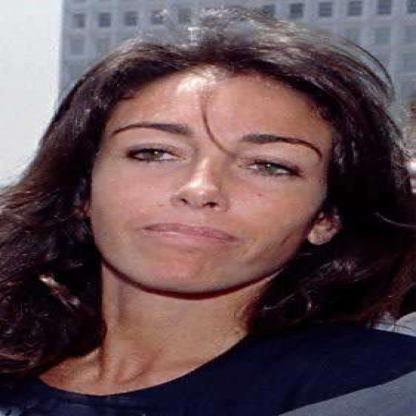face: (91, 57, 333, 299)
